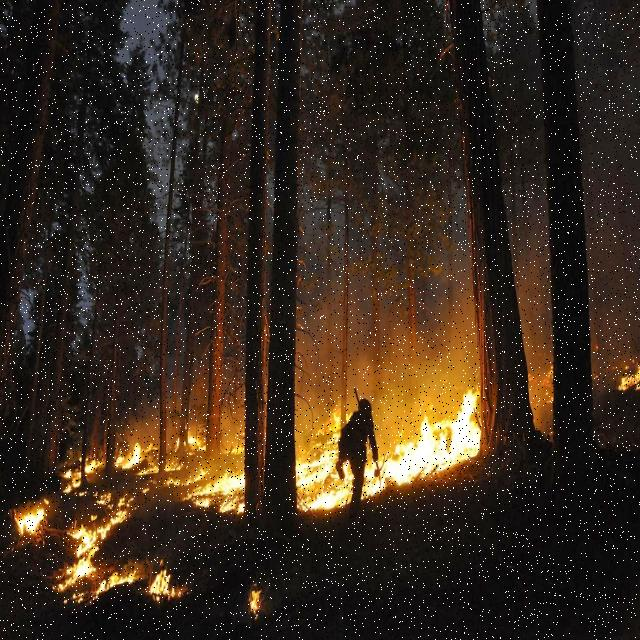fire: (442, 388, 478, 468), (401, 413, 433, 487), (299, 449, 339, 489), (308, 479, 347, 514), (16, 502, 48, 542), (217, 459, 239, 498), (125, 435, 141, 477), (64, 562, 94, 583), (74, 520, 94, 550), (155, 578, 179, 599), (111, 572, 137, 588)
